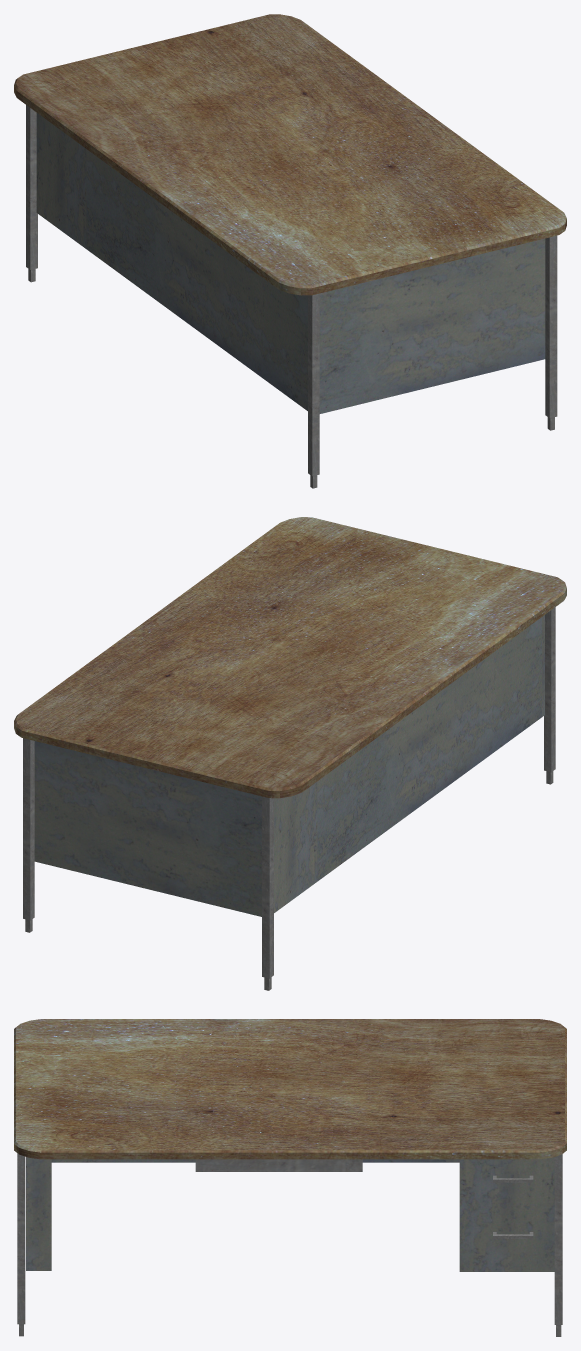
Rendered from TeacherDesk.fbx.
3 renders of one model, top to bottom at view 1: azimuth 30°, elevation 25°; view 2: azimuth 150°, elevation 25°; view 3: azimuth 270°, elevation 25°, orthographic. The views are drawn at different scales.
Visible parts, largest first — view 1: polySurface15; view 2: polySurface15; view 3: polySurface15.
Boxes of the visible parts, left/top/right/bottom form: polySurface15: left=14, top=14, right=566, bottom=488; polySurface15: left=14, top=517, right=566, bottom=990; polySurface15: left=14, top=1019, right=566, bottom=1336.
Bounding box in the file's own units: 26.14 × 17.92 × 46.03.
